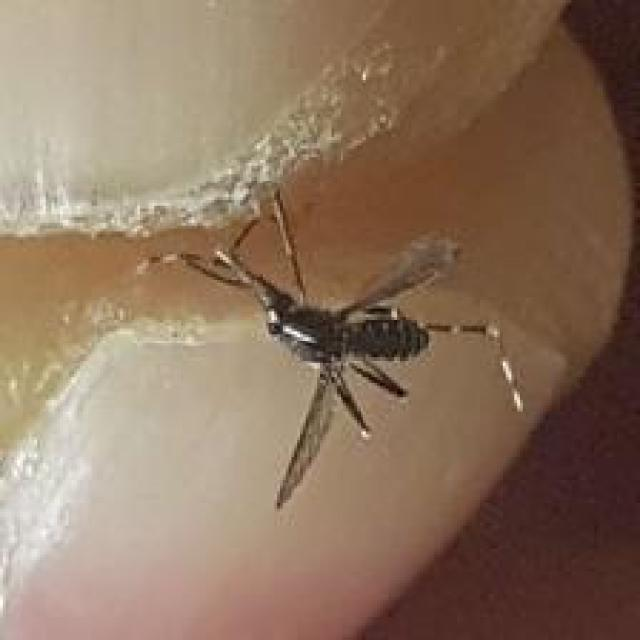Aedes albopictus: (139, 184, 527, 510)
